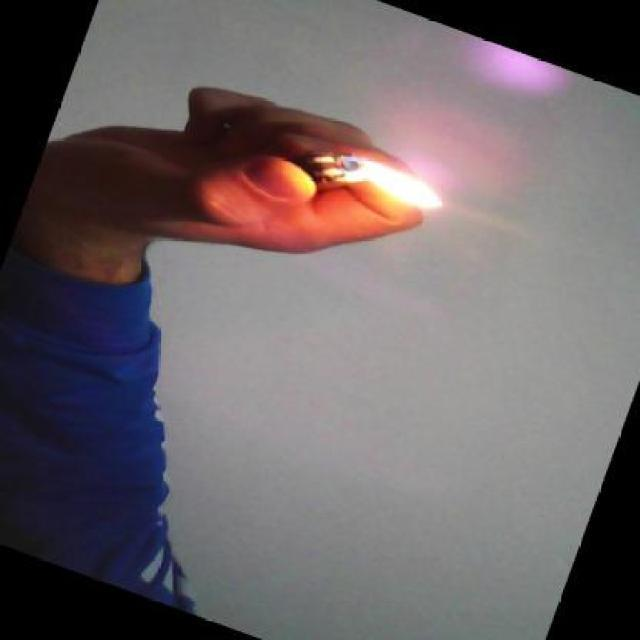Fire: (361, 168, 453, 222), (343, 137, 356, 161)
